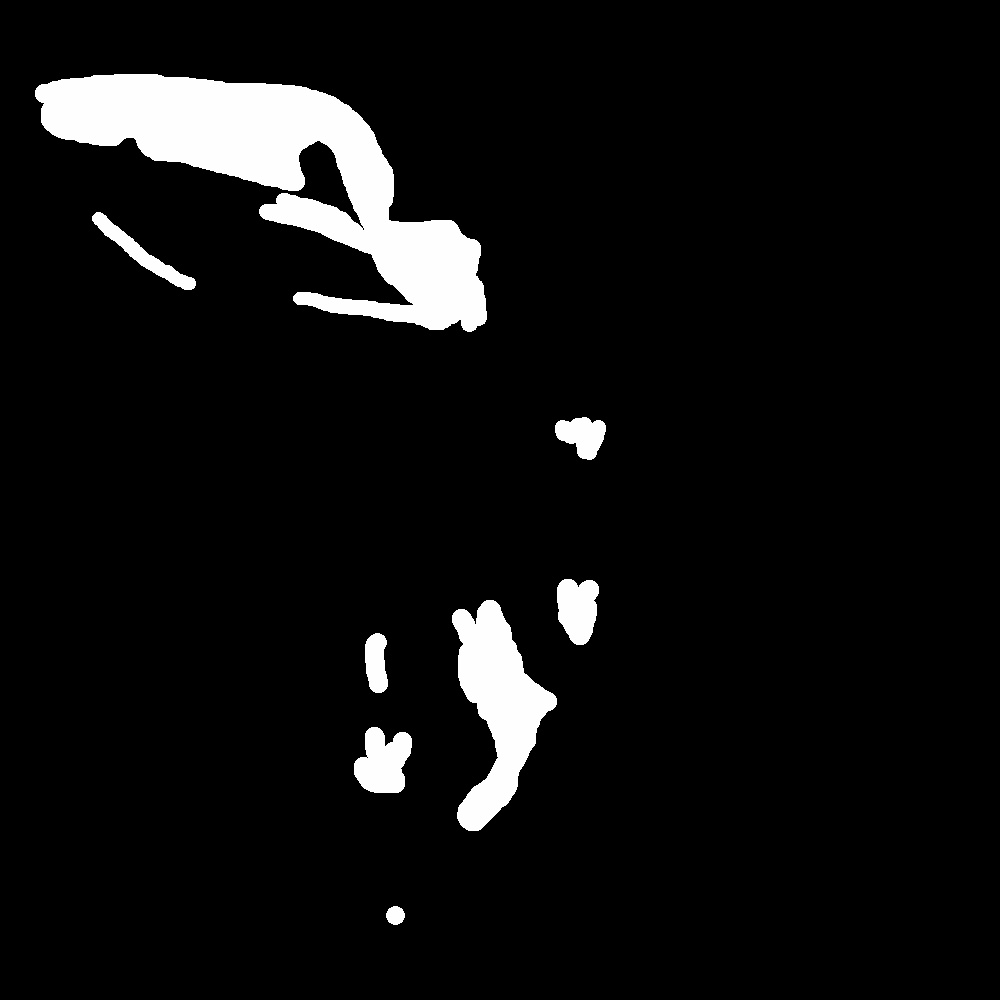illegal: (37, 76, 482, 330), (453, 603, 556, 831), (68, 199, 191, 291), (361, 623, 419, 798), (556, 571, 596, 642)
